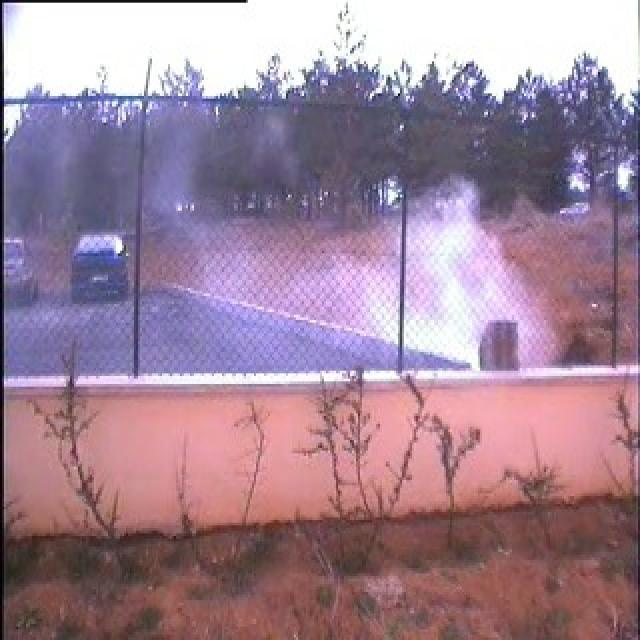Smoke: (294, 182, 553, 370)
